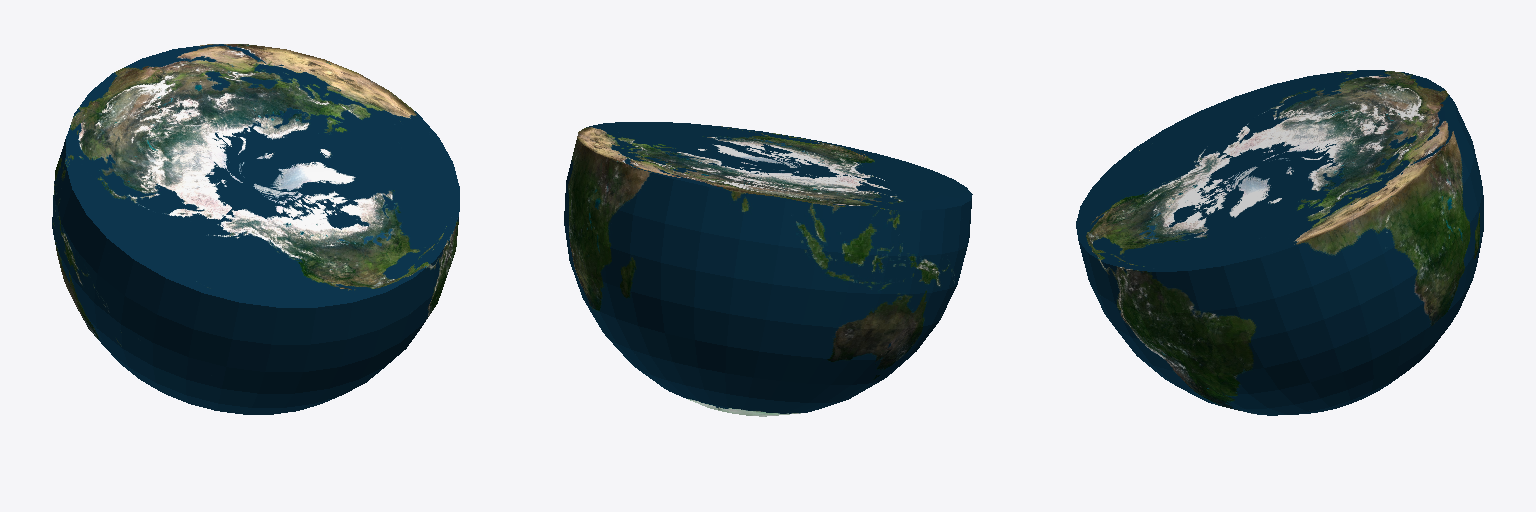
3 renders of one model, left to right at view 1: azimuth 30°, elevation 25°; view 2: azimuth 150°, elevation 25°; view 3: azimuth 270°, elevation 25°, orthographic.
Parts seen in each view (by area): view 1: Sphere; view 2: Sphere; view 3: Sphere.
Part boxes in pixels (bbox=[...]): Sphere: bbox=[52, 44, 459, 414]; Sphere: bbox=[564, 122, 972, 416]; Sphere: bbox=[1076, 70, 1483, 415].
Bounding box in the file's own units: 1.96 × 1.49 × 1.96.
1 materials, 1 textured.